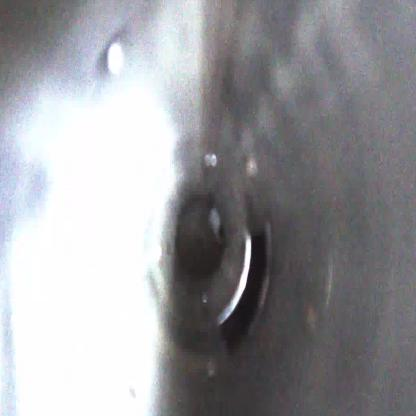Crack2: (213, 221, 275, 359)
